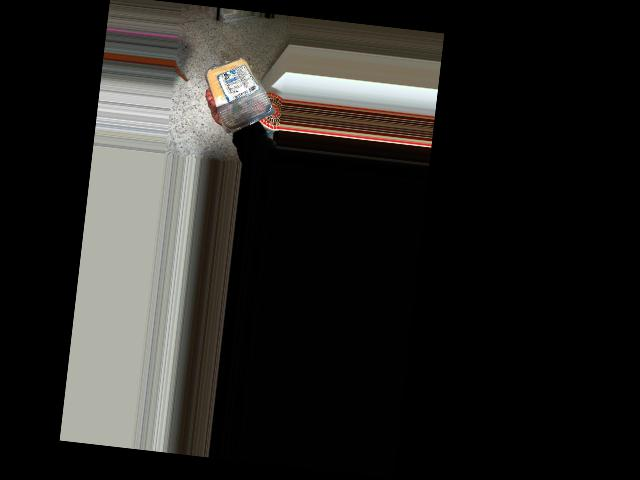cheese: (207, 49, 278, 132)
